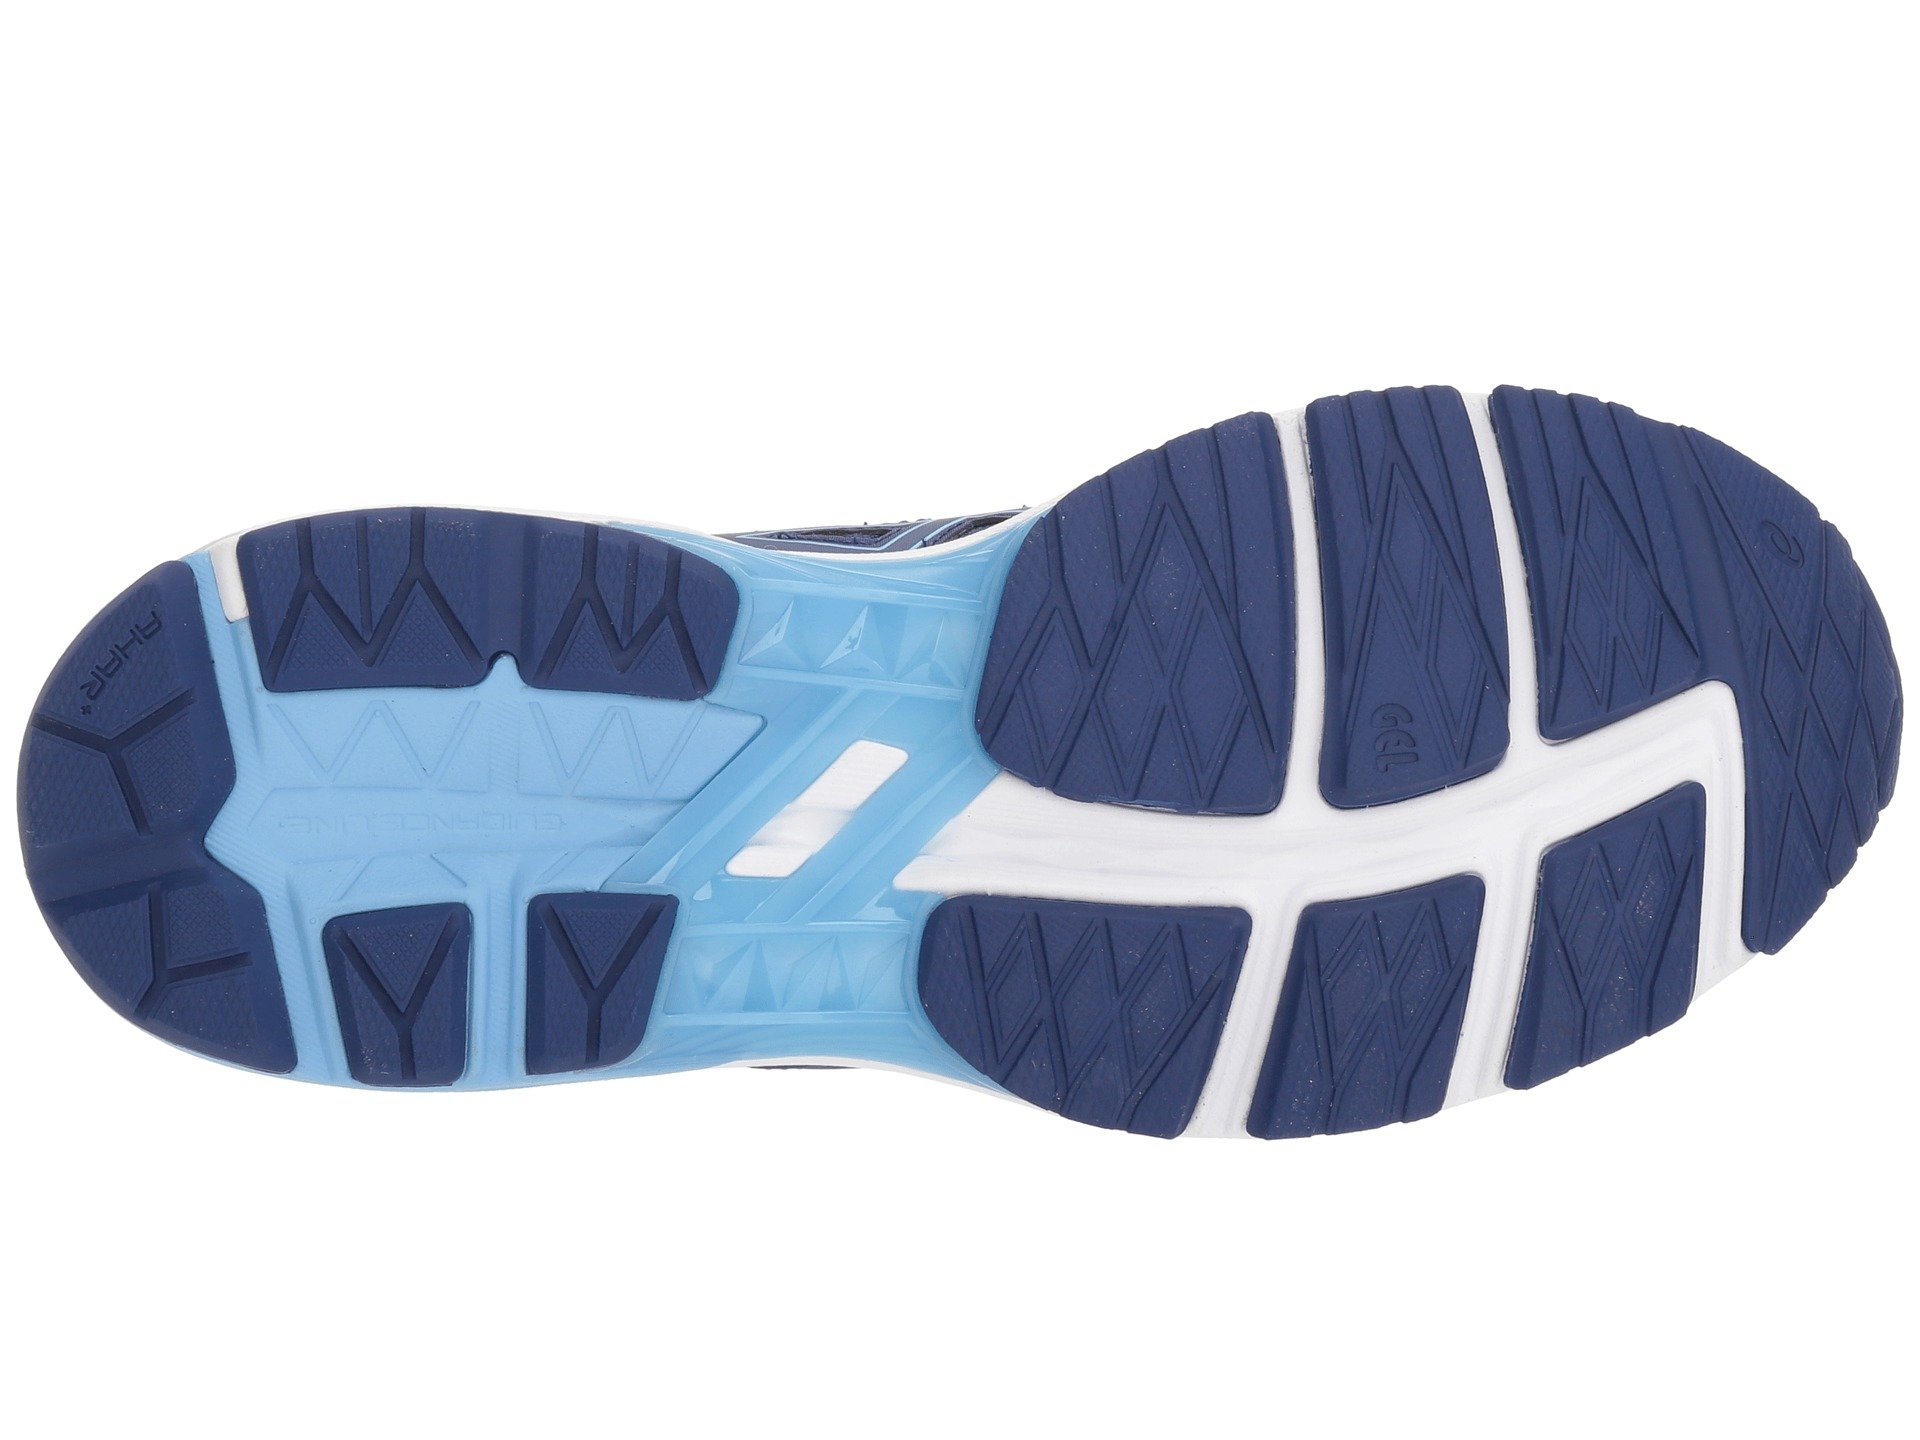quad: (989, 212, 1185, 424), (998, 542, 1167, 720), (1488, 188, 1627, 324), (1281, 538, 1412, 681)
text: (63, 296, 132, 366)
triangle: (246, 250, 452, 428)
